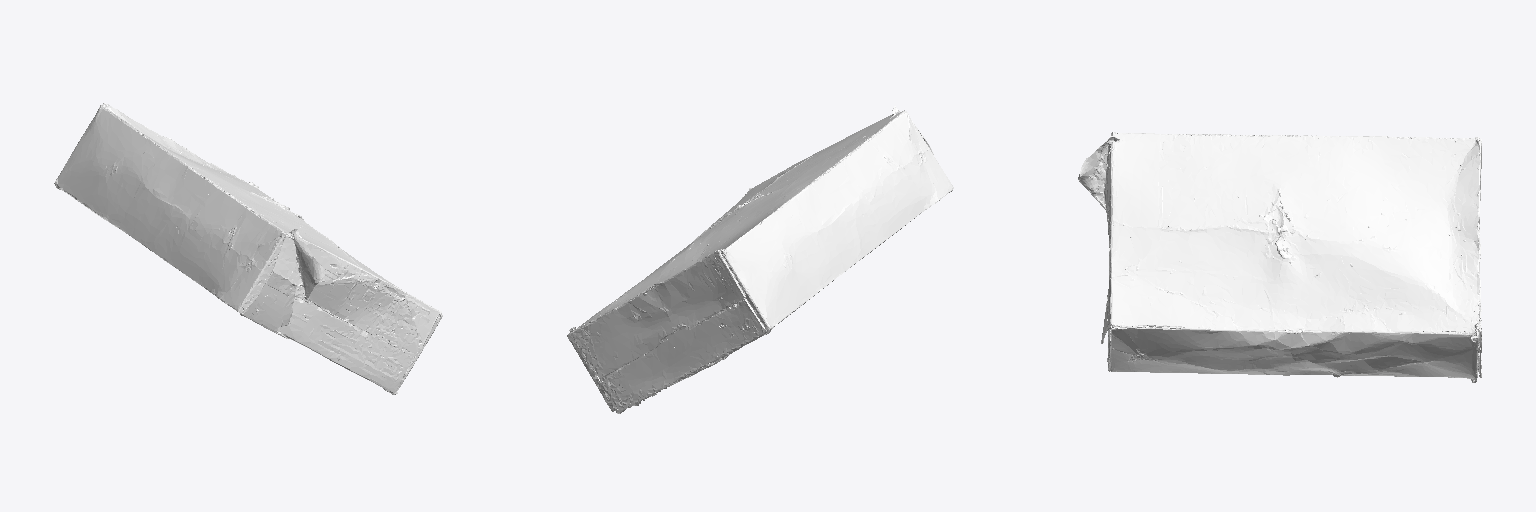
The model's file is c_r_alesRC_Model_21.obj.
3 renders of one model, left to right at view 1: azimuth 30°, elevation 25°; view 2: azimuth 150°, elevation 25°; view 3: azimuth 270°, elevation 25°, orthographic.
Visible parts, largest first — view 1: default; view 2: default; view 3: default.
Boxes of the visible parts, x1=… form: default: x1=54, y1=103, x2=442, y2=394; default: x1=567, y1=106, x2=953, y2=413; default: x1=1078, y1=132, x2=1481, y2=382.
Bounding box in the file's own units: 21.87 × 19.89 × 36.91.